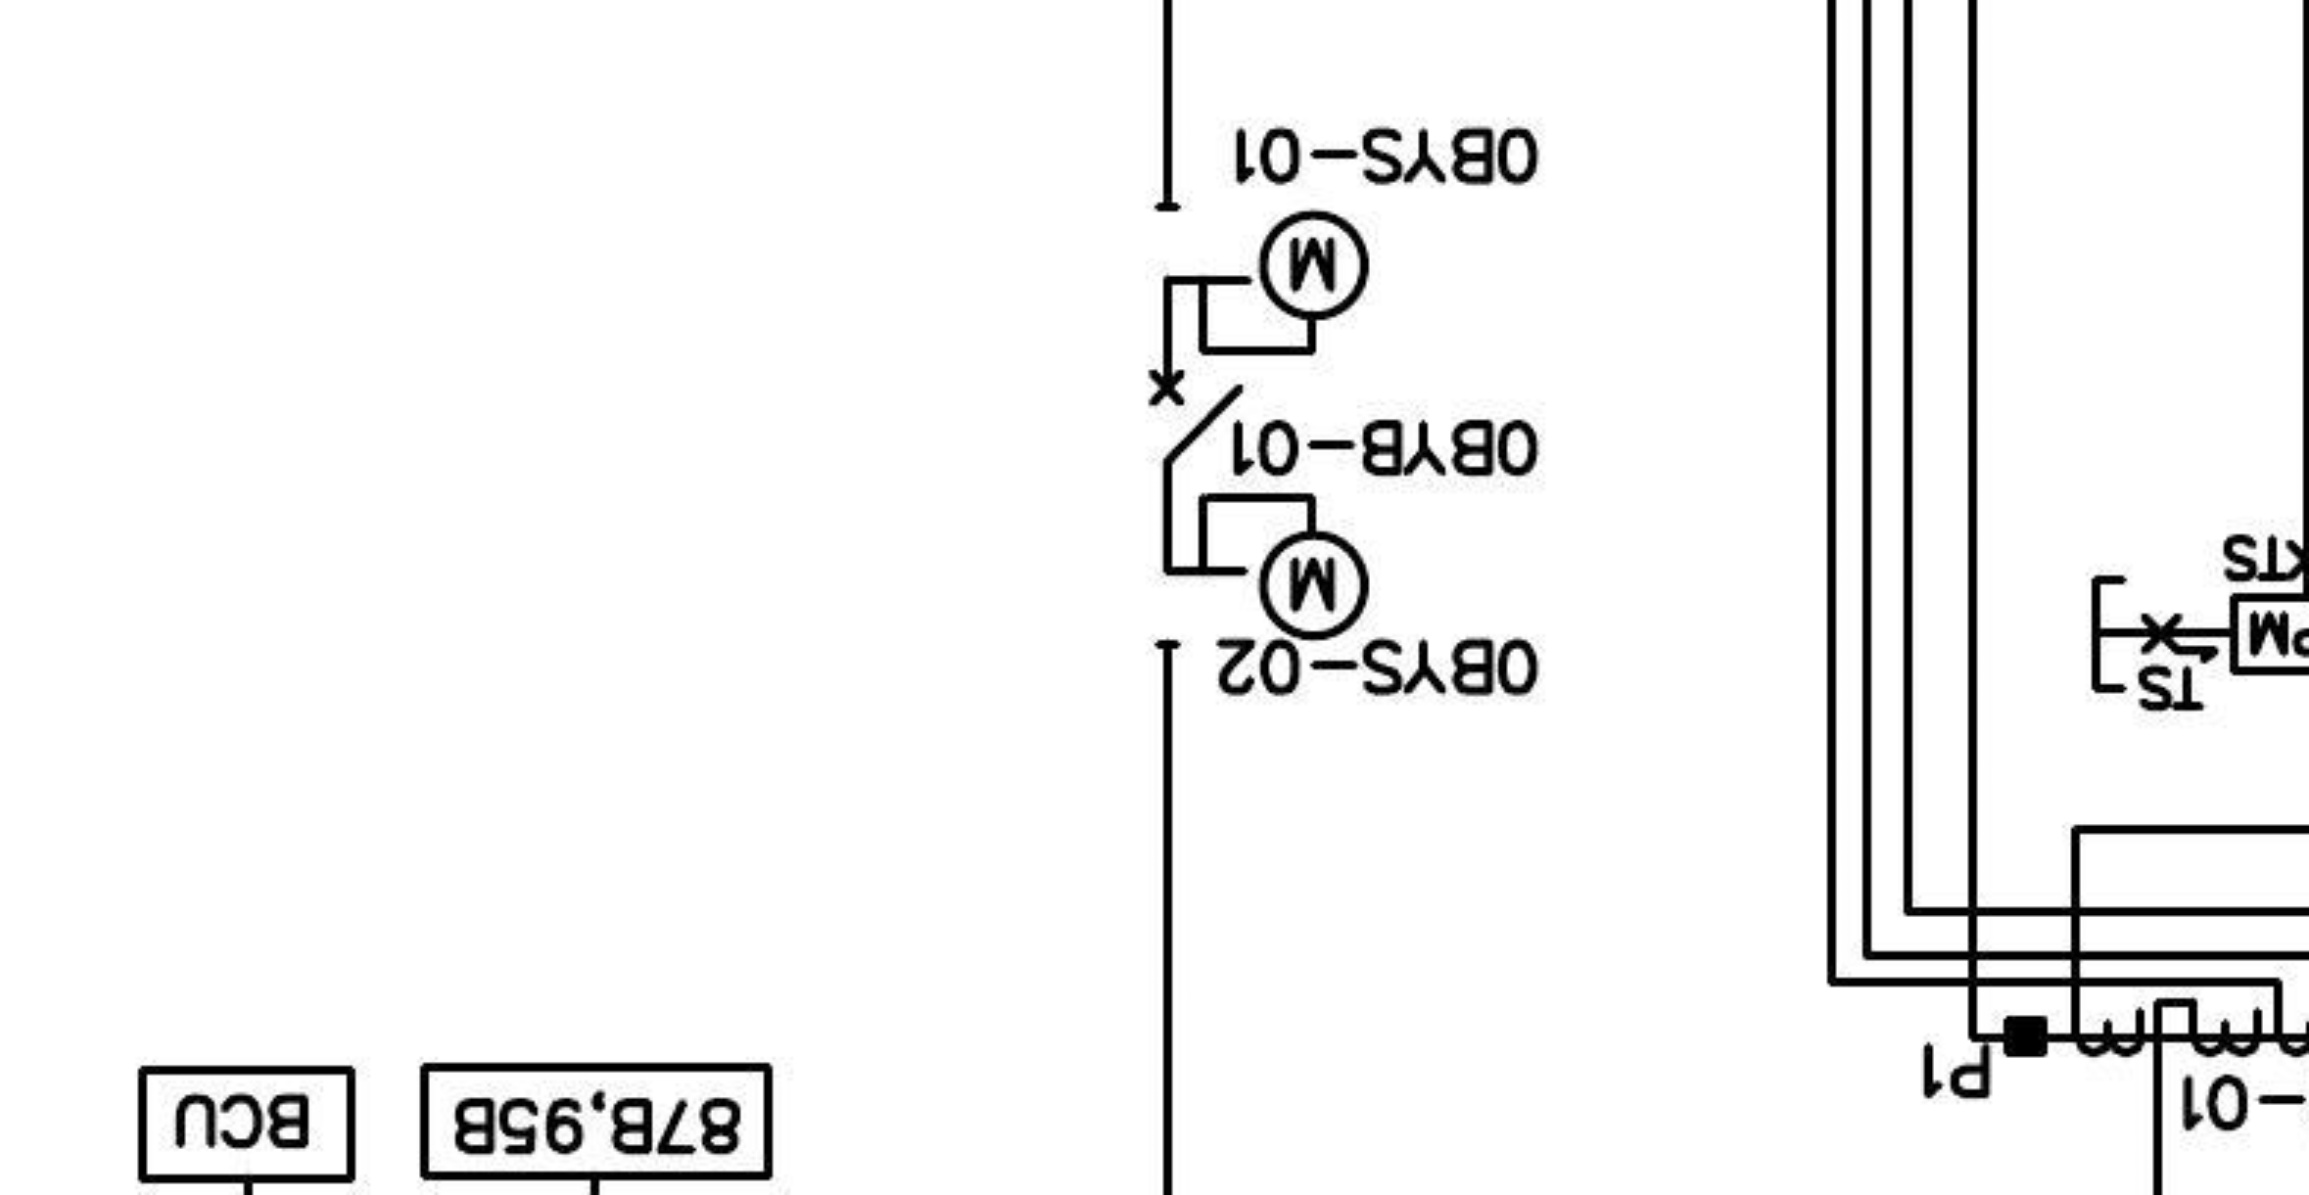115_1way_ds_w_motor: (1154, 492, 1372, 651), (1152, 201, 1372, 357)
115_breaker: (1148, 369, 1244, 465)
BCU: (136, 1064, 358, 1186)
